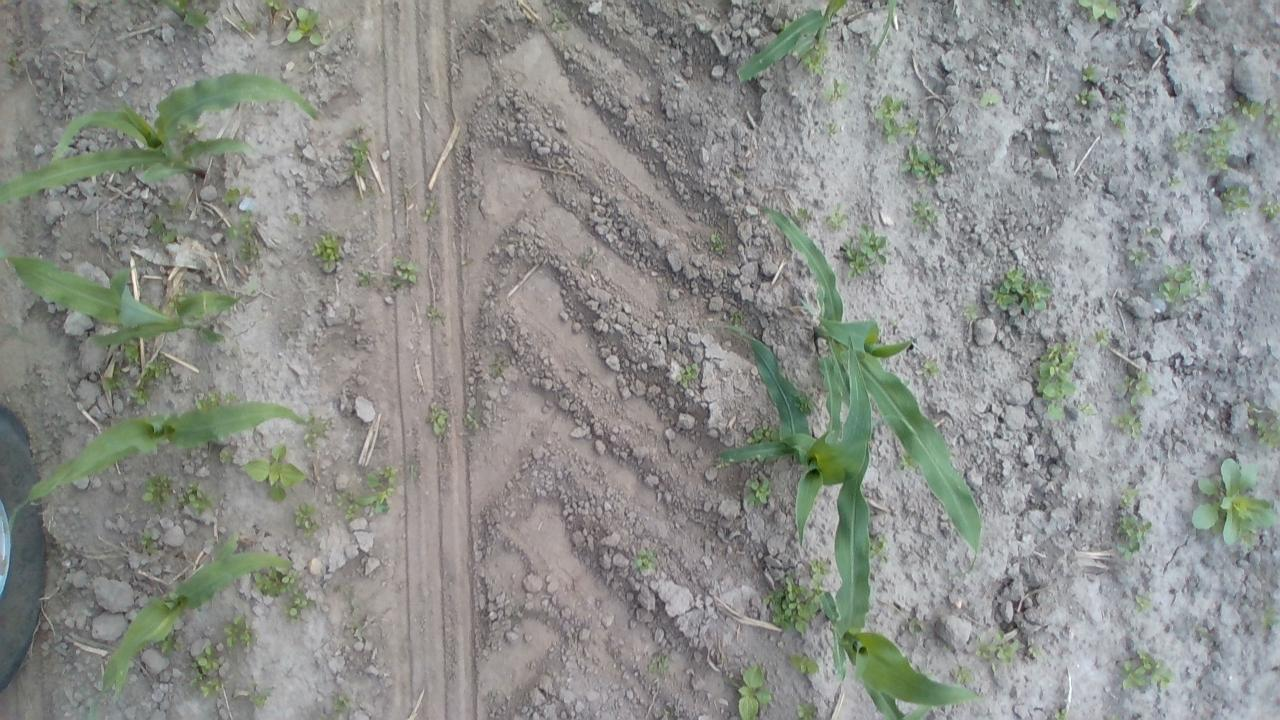Maize: (760, 205, 984, 577), (822, 415, 984, 720), (0, 71, 320, 206), (83, 532, 294, 720), (706, 320, 873, 550), (8, 402, 306, 526), (0, 246, 258, 347), (734, 0, 894, 83), (149, 0, 210, 27)
Weeds: (1191, 458, 1278, 550), (762, 572, 822, 635), (1036, 338, 1080, 422), (245, 444, 306, 503), (1153, 262, 1213, 308), (992, 268, 1052, 312), (842, 224, 888, 279), (726, 664, 771, 720), (1118, 648, 1176, 690), (873, 93, 918, 144), (1202, 112, 1238, 172), (353, 466, 396, 516), (974, 630, 1019, 674), (227, 208, 262, 264), (900, 144, 946, 186), (188, 644, 222, 698), (1245, 400, 1280, 449), (1116, 516, 1152, 562), (253, 564, 300, 598), (310, 228, 344, 272), (285, 6, 323, 44), (178, 480, 218, 516), (140, 472, 173, 514), (1114, 370, 1152, 406), (283, 587, 315, 623), (222, 616, 258, 648), (347, 136, 372, 179), (1076, 0, 1118, 24), (803, 36, 828, 76), (344, 585, 364, 634), (148, 212, 178, 243), (390, 258, 421, 288), (302, 412, 327, 448), (1111, 410, 1142, 439), (172, 120, 204, 148), (911, 200, 939, 232), (743, 478, 772, 508), (1219, 186, 1251, 212), (140, 355, 170, 382), (294, 503, 318, 536), (808, 558, 832, 590), (335, 489, 359, 520), (824, 77, 852, 103), (1234, 98, 1264, 122), (744, 424, 780, 444), (222, 183, 254, 205), (247, 682, 274, 708), (825, 203, 850, 231), (789, 652, 820, 674), (869, 532, 890, 564), (194, 392, 236, 408), (168, 288, 194, 312), (1116, 484, 1140, 510), (1108, 103, 1128, 134), (1265, 97, 1280, 138), (428, 406, 448, 435), (102, 368, 126, 392), (632, 548, 656, 572), (157, 630, 180, 655), (676, 363, 698, 388), (952, 664, 975, 686), (122, 336, 140, 364), (648, 651, 669, 675), (546, 9, 570, 30), (1172, 132, 1194, 154), (896, 451, 920, 471), (790, 206, 811, 228), (918, 359, 940, 379), (130, 386, 152, 406), (1260, 605, 1278, 629), (1090, 327, 1111, 347), (1128, 247, 1150, 266), (1135, 592, 1154, 614), (218, 444, 236, 466), (138, 530, 156, 552), (1260, 199, 1280, 218), (332, 694, 353, 712), (796, 703, 818, 720), (1074, 88, 1094, 106), (358, 270, 377, 288), (980, 92, 1000, 109), (464, 409, 481, 429), (168, 195, 184, 216), (908, 616, 924, 636), (1082, 64, 1099, 82), (489, 358, 504, 378), (710, 234, 727, 251), (963, 302, 979, 320), (235, 19, 257, 32), (408, 459, 420, 481), (917, 664, 933, 680), (730, 310, 744, 328), (426, 308, 439, 327), (1026, 644, 1043, 658), (1078, 402, 1096, 415), (377, 46, 392, 61), (424, 200, 434, 222), (1182, 0, 1195, 16), (259, 1, 281, 10), (714, 456, 730, 468), (1143, 227, 1160, 238), (826, 122, 839, 136), (1168, 176, 1182, 188), (1054, 708, 1068, 720), (364, 185, 376, 198), (2, 52, 17, 62), (290, 212, 300, 225), (354, 121, 365, 132), (658, 708, 671, 716), (353, 197, 362, 207), (888, 317, 898, 326), (918, 186, 928, 195), (1036, 146, 1046, 154), (666, 300, 676, 306), (1108, 715, 1120, 720), (1014, 0, 1022, 6)
